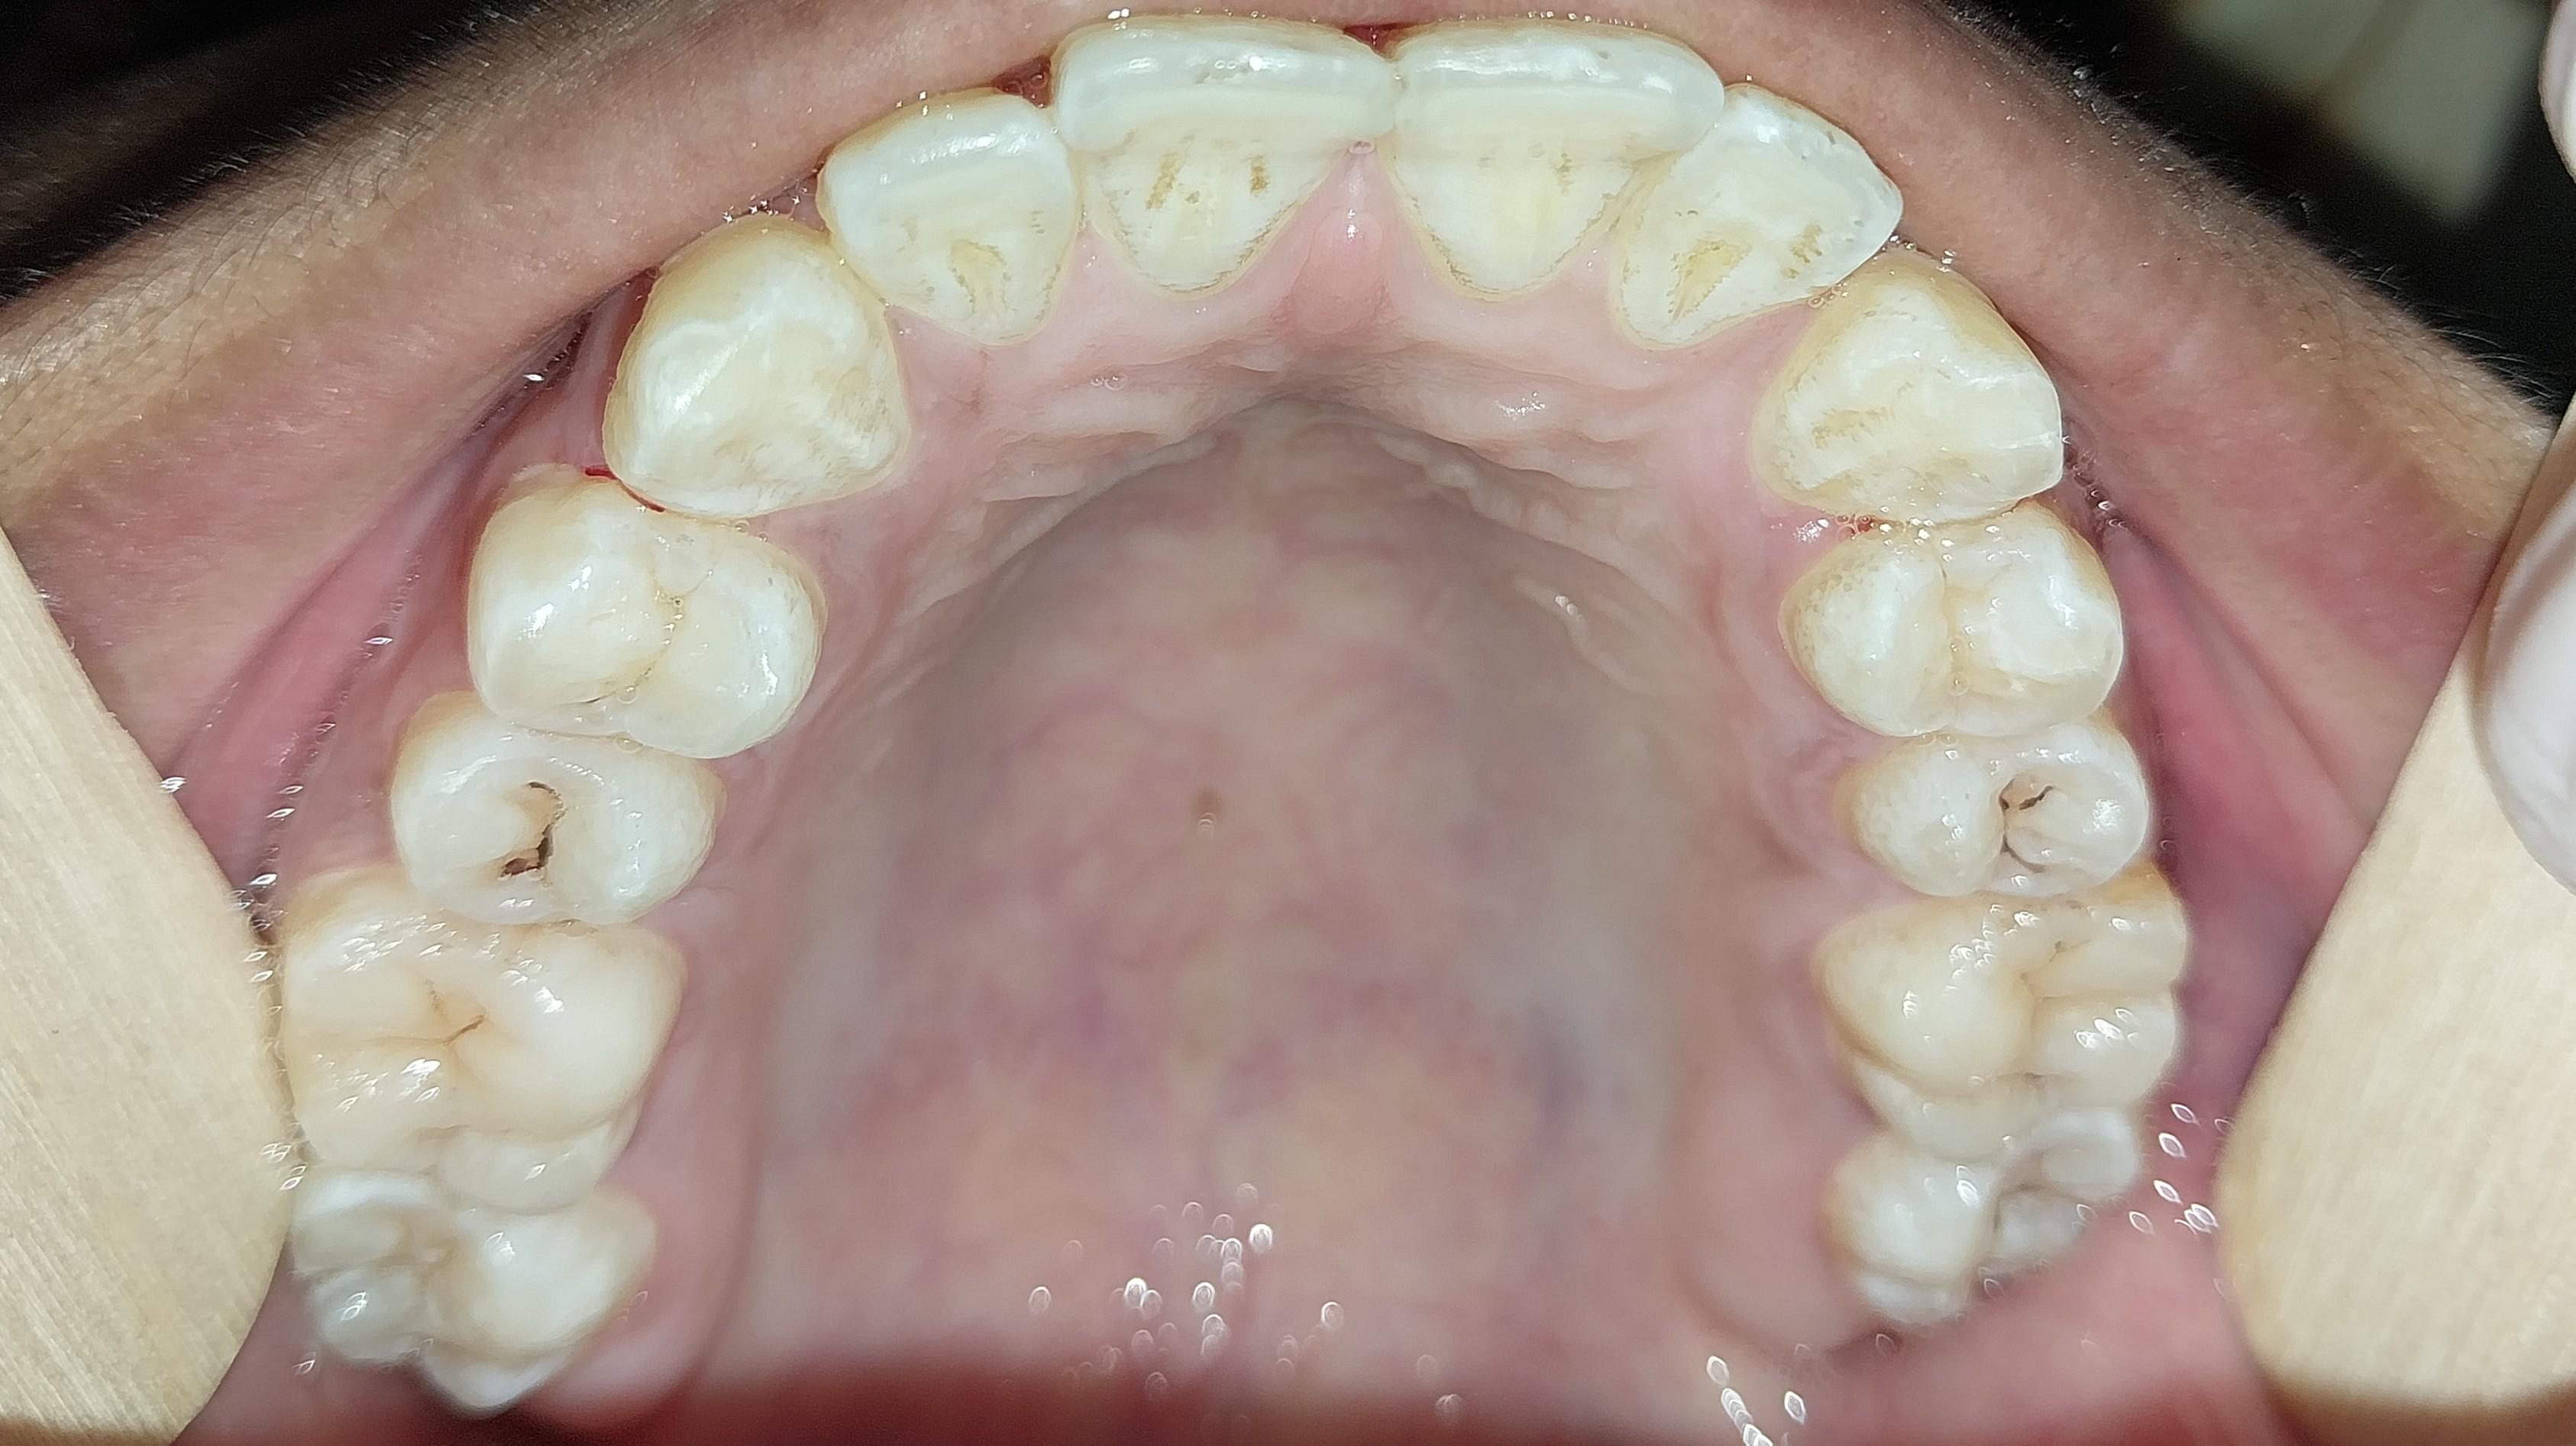D: (394, 706, 714, 933), (1849, 737, 2145, 906)
